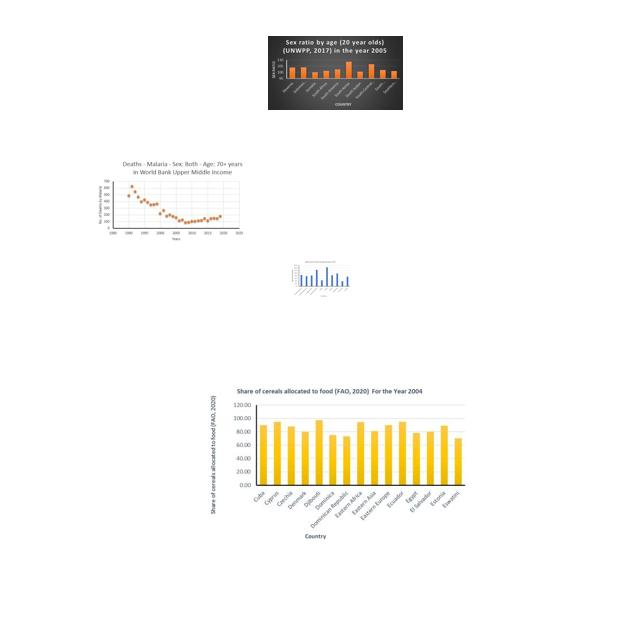Graph: (203, 384, 475, 542), (95, 158, 245, 243), (268, 36, 403, 110), (290, 260, 351, 297)
